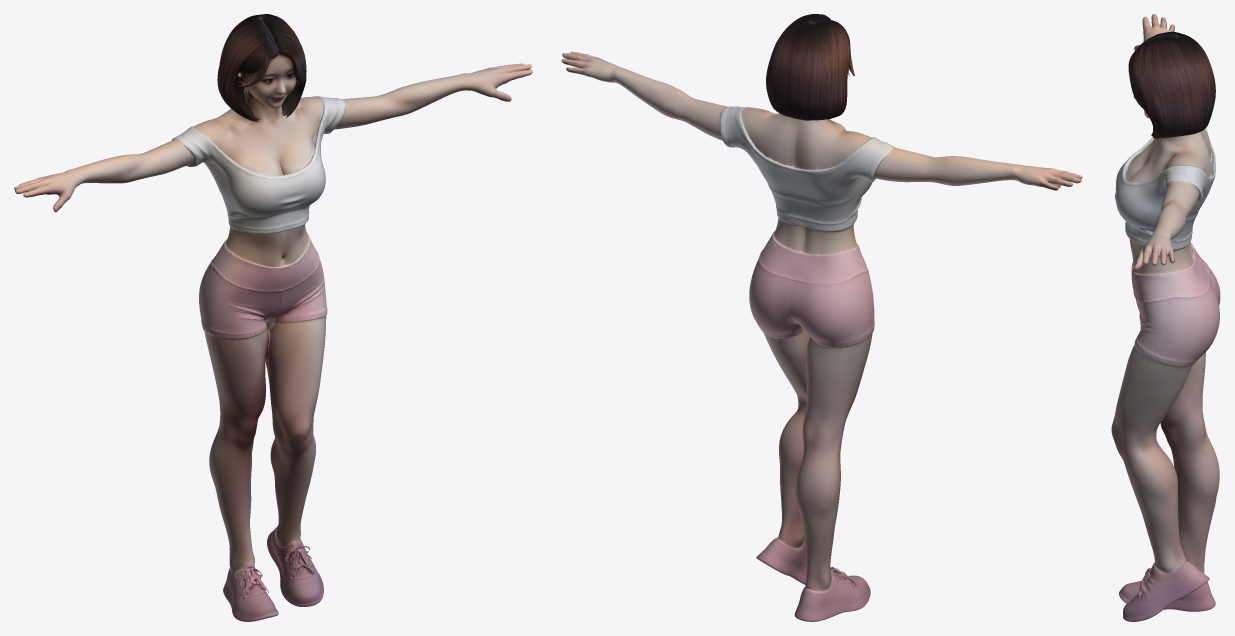
The model's file is Meshy_AI_Open_Arms_in_the_Gym_0412224106_texture.fbx.
The picture shows the model from 3 angles, left to right: view 1: azimuth 30°, elevation 25°; view 2: azimuth 150°, elevation 25°; view 3: azimuth 270°, elevation 25°; orthographic projection.
Parts seen in each view (by area): view 1: Mesh_0; view 2: Mesh_0; view 3: Mesh_0.
Boxes of the visible parts, left/top/right/bottom form: Mesh_0: left=14, top=14, right=532, bottom=621; Mesh_0: left=561, top=14, right=1082, bottom=621; Mesh_0: left=1111, top=14, right=1220, bottom=621.
Bounding box in the file's own units: 176 × 190 × 32.45.
1 material, 1 textured.
